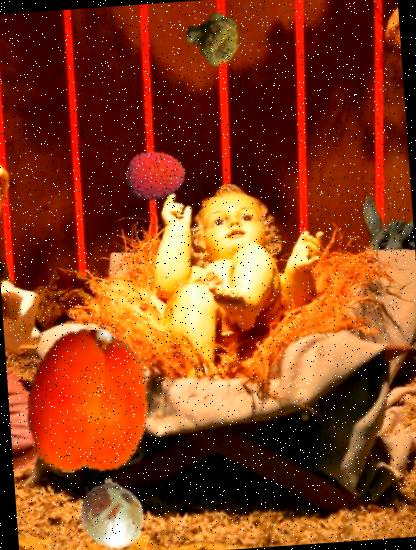Apricot: (10, 324, 164, 478)
Cauliflower: (181, 9, 242, 70)
Lychee: (124, 144, 188, 208)
Onion: (77, 478, 149, 550)
